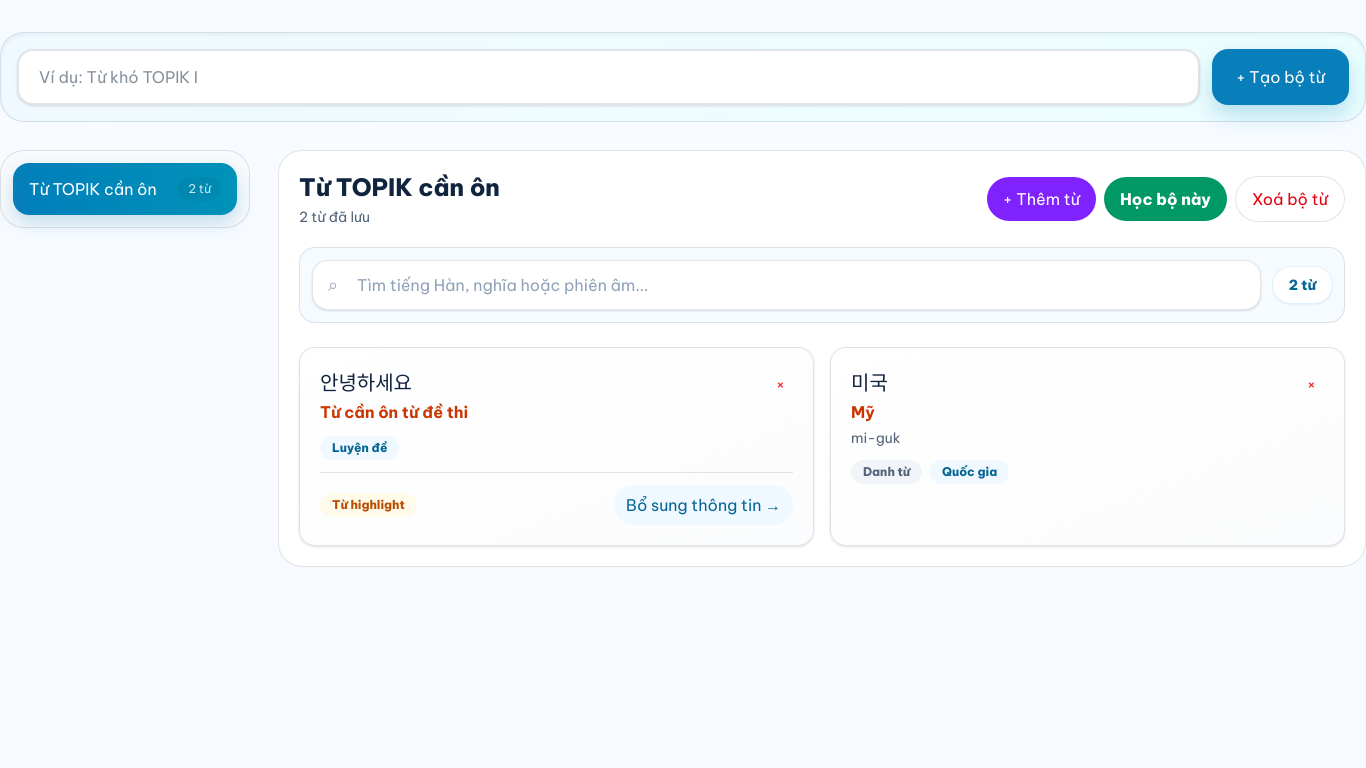
Test case: VocabularyListsManager › lọc từ trong bộ theo tiếng Hàn, nghĩa và phiên âm
In the search field named "Tìm từ trong bộ": {"x": 786, "y": 285} [312,260,1261,310], type "mi-guk"
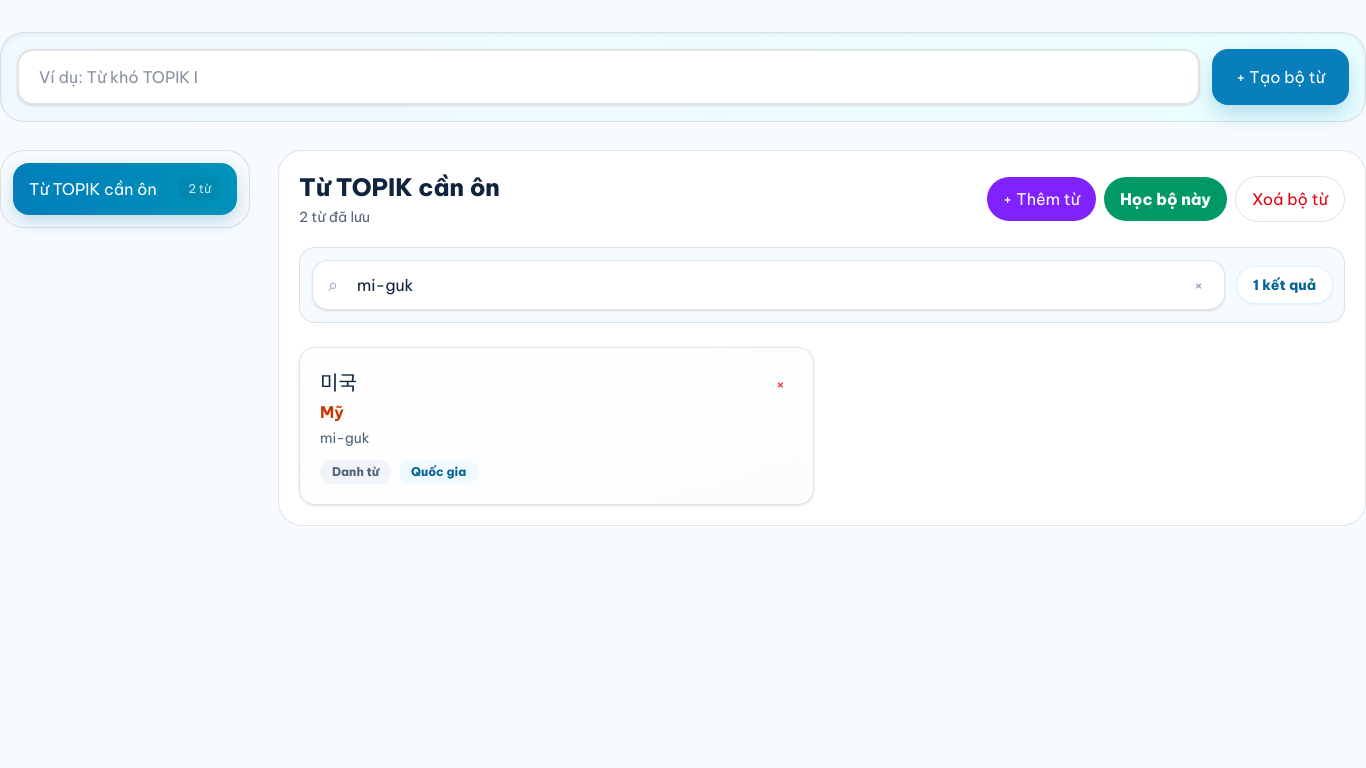
Expected: the button named "Bỏ từ 미국" is shown, [768,368,793,400]
Expected: the text "1 kết quả" is shown, [1237,267,1332,303]
